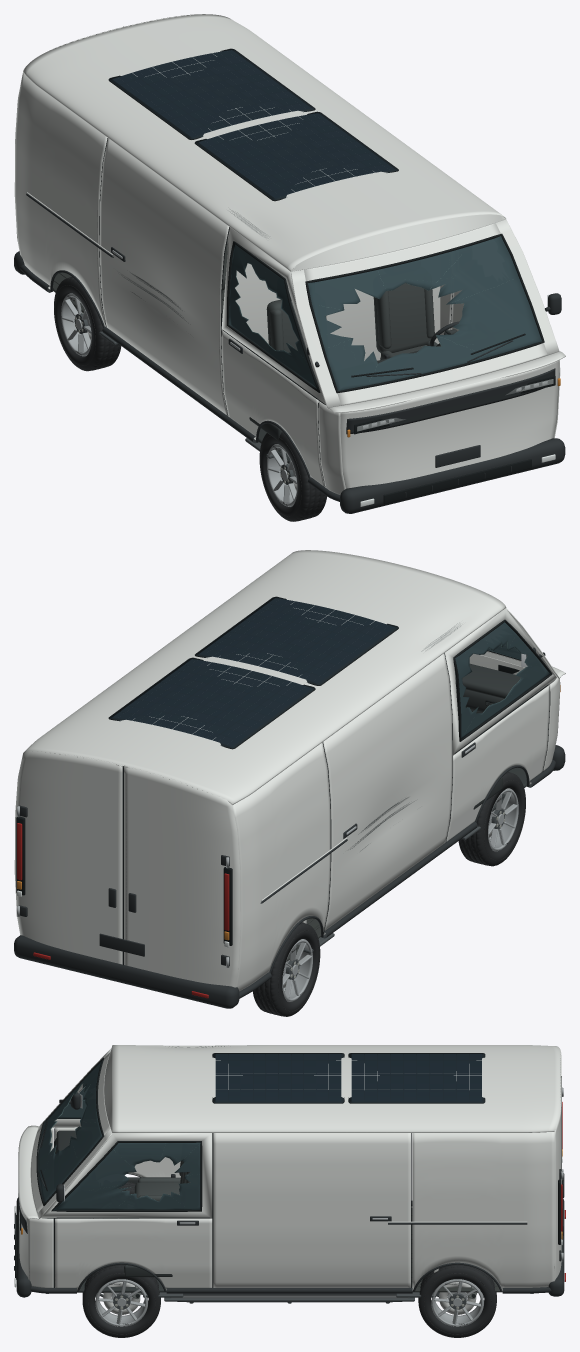
Rendered from van_rollover.glb.
3 renders of one model, top to bottom at view 1: azimuth 30°, elevation 25°; view 2: azimuth 150°, elevation 25°; view 3: azimuth 270°, elevation 25°, orthographic. The views are drawn at different scales.
Parts seen in each view (by area): view 1: EVVan_00_Pearl ceramic white automotive paint, Broken glazing Dark laminated real glazing, EVVan_03_Graphite molded exterior trim, EVVan_09_Photovoltaic dark silicon cell 0, EVVan_11_Photovoltaic dark silicon cell 1, EVVan_02_EPDM aperture and panel seals, EVVan_18_Dark grey woven seating, EVVan_21_EV_Tyre_Rubber, EVVan_08_Flexible photovoltaic sealed graphite backsheet, EVVan_22_EV_Cast_Aluminium; view 2: EVVan_00_Pearl ceramic white automotive paint, EVVan_11_Photovoltaic dark silicon cell 1, EVVan_09_Photovoltaic dark silicon cell 0, EVVan_03_Graphite molded exterior trim, EVVan_21_EV_Tyre_Rubber, EVVan_02_EPDM aperture and panel seals, Broken glazing Dark laminated real glazing, EVVan_08_Flexible photovoltaic sealed graphite backsheet, EVVan_22_EV_Cast_Aluminium, EVVan_16_Cabin charcoal molded polymer, EVVan_14_Ruby tail reflector optical polymer; view 3: EVVan_00_Pearl ceramic white automotive paint, Broken glazing Dark laminated real glazing, EVVan_11_Photovoltaic dark silicon cell 1, EVVan_09_Photovoltaic dark silicon cell 0, EVVan_21_EV_Tyre_Rubber, EVVan_03_Graphite molded exterior trim, EVVan_02_EPDM aperture and panel seals, EVVan_22_EV_Cast_Aluminium, EVVan_23_EV_Stamped_Graphite_Ecoat, EVVan_08_Flexible photovoltaic sealed graphite backsheet, EVVan_16_Cabin charcoal molded polymer, EVVan_18_Dark grey woven seating (+4 smaller).
Boxes of the visible parts, x1,y1,x2,y2 form: EVVan_00_Pearl ceramic white automotive paint: (14, 14, 565, 494); Broken glazing Dark laminated real glazing: (229, 236, 541, 390); EVVan_03_Graphite molded exterior trim: (14, 193, 565, 513); EVVan_09_Photovoltaic dark silicon cell 0: (120, 50, 387, 198); EVVan_11_Photovoltaic dark silicon cell 1: (112, 53, 394, 192); EVVan_02_EPDM aperture and panel seals: (99, 26, 555, 503); EVVan_18_Dark grey woven seating: (266, 283, 437, 365); EVVan_21_EV_Tyre_Rubber: (54, 277, 326, 521); EVVan_08_Flexible photovoltaic sealed graphite backsheet: (109, 49, 397, 200); EVVan_22_EV_Cast_Aluminium: (61, 293, 297, 506); EVVan_00_Pearl ceramic white automotive paint: (14, 550, 565, 991); EVVan_11_Photovoltaic dark silicon cell 1: (120, 598, 386, 746); EVVan_09_Photovoltaic dark silicon cell 0: (112, 601, 394, 740); EVVan_03_Graphite molded exterior trim: (14, 647, 565, 1008); EVVan_21_EV_Tyre_Rubber: (252, 772, 525, 1016); EVVan_02_EPDM aperture and panel seals: (16, 596, 552, 965); Broken glazing Dark laminated real glazing: (455, 622, 549, 738); EVVan_08_Flexible photovoltaic sealed graphite backsheet: (109, 597, 397, 748); EVVan_22_EV_Cast_Aluminium: (282, 788, 518, 1001); EVVan_16_Cabin charcoal molded polymer: (454, 663, 526, 811); EVVan_14_Ruby tail reflector optical polymer: (17, 823, 229, 998); EVVan_00_Pearl ceramic white automotive paint: (18, 1045, 561, 1290); Broken glazing Dark laminated real glazing: (38, 1061, 200, 1210); EVVan_11_Photovoltaic dark silicon cell 1: (215, 1054, 481, 1101); EVVan_09_Photovoltaic dark silicon cell 0: (215, 1054, 481, 1101); EVVan_21_EV_Tyre_Rubber: (82, 1182, 496, 1337); EVVan_03_Graphite molded exterior trim: (14, 1092, 564, 1297); EVVan_02_EPDM aperture and panel seals: (15, 1053, 561, 1287); EVVan_22_EV_Cast_Aluminium: (95, 1279, 483, 1326); EVVan_23_EV_Stamped_Graphite_Ecoat: (46, 1218, 533, 1309); EVVan_08_Flexible photovoltaic sealed graphite backsheet: (213, 1053, 484, 1102); EVVan_16_Cabin charcoal molded polymer: (42, 1130, 172, 1292); EVVan_18_Dark grey woven seating: (134, 1161, 190, 1201).
Size of the model in its own units: 1.98 by 2.05 by 4.67.
